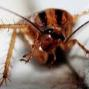cockroach: (27, 7, 74, 65)
